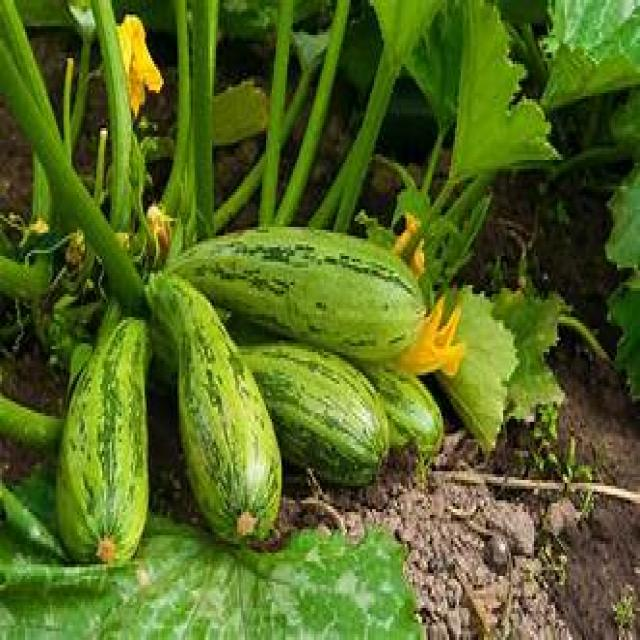Zucchini: (172, 235, 437, 358)
